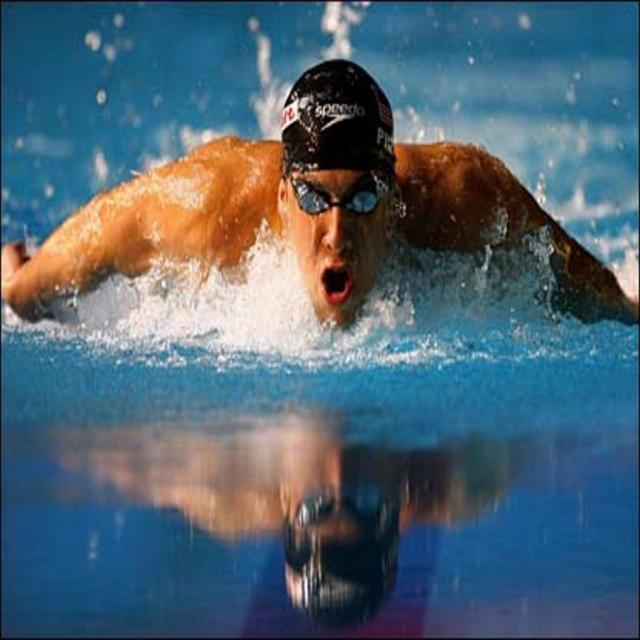Face: (288, 133, 391, 328)
